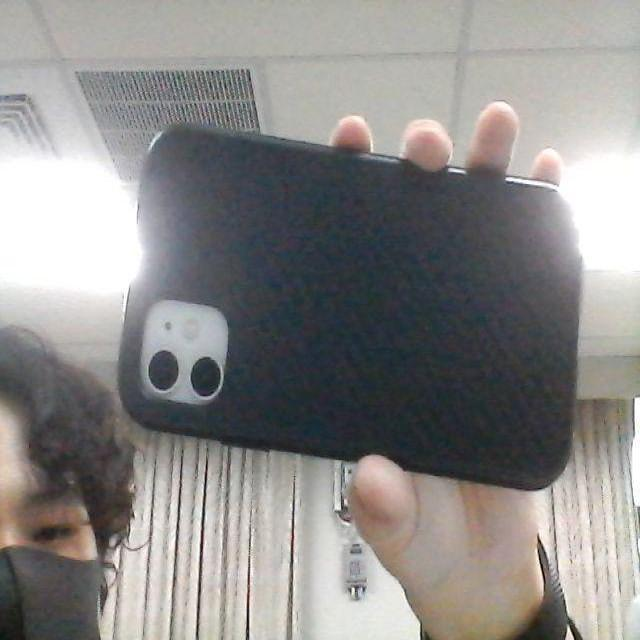phone: (116, 119, 602, 493)
